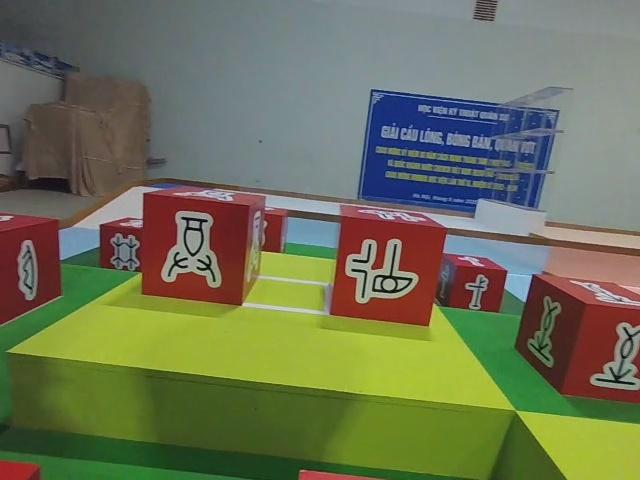R2 Real: (513, 270, 640, 405), (140, 181, 269, 308), (324, 201, 449, 328), (0, 206, 65, 330), (431, 249, 510, 316), (97, 213, 158, 275)
